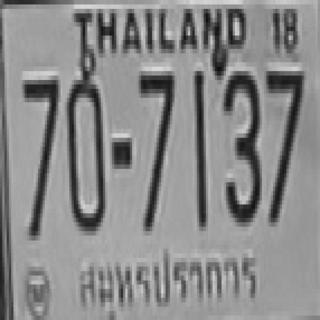N00: (65, 73, 103, 229)
N01: (192, 67, 204, 227), (194, 71, 205, 227)
N03: (222, 67, 260, 222)
N07: (264, 67, 302, 222), (21, 76, 57, 236), (137, 67, 172, 227)
P57: (74, 251, 258, 314)
